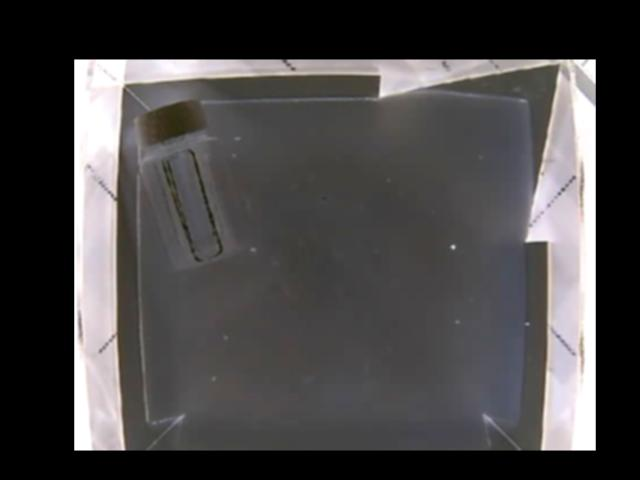Bottle: (134, 100, 254, 268)
